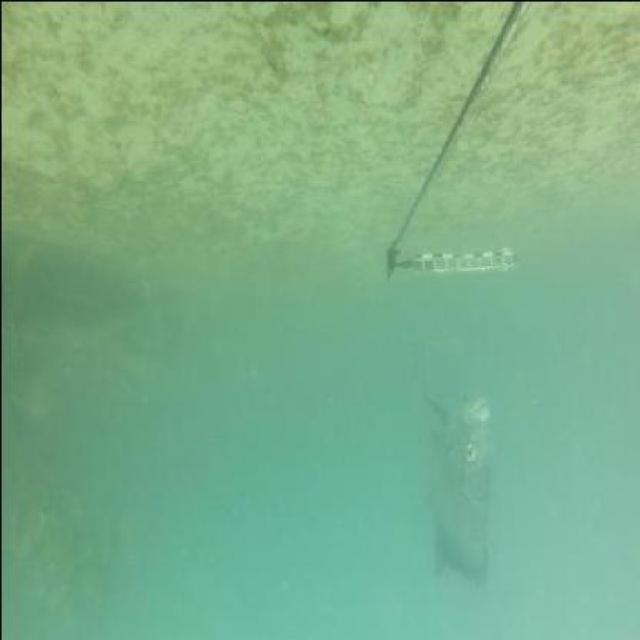acanthopagrus_palmaris: (417, 379, 494, 592)
